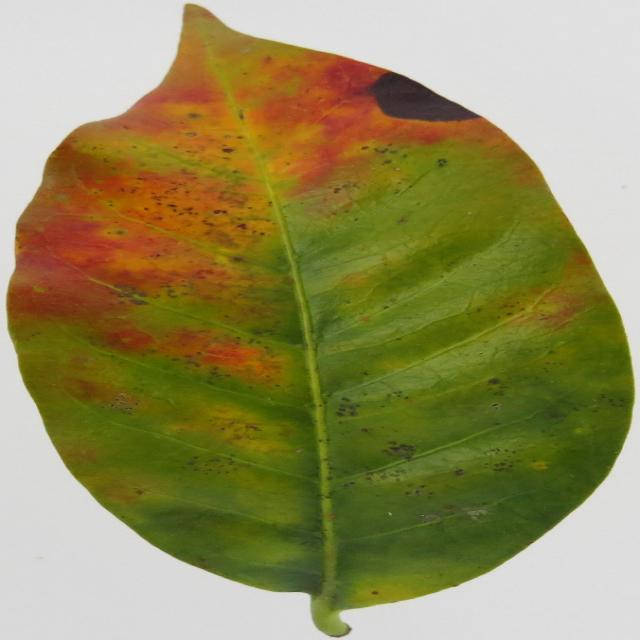DeficienciaNutricional-Fosforo: (7, 5, 632, 636)
